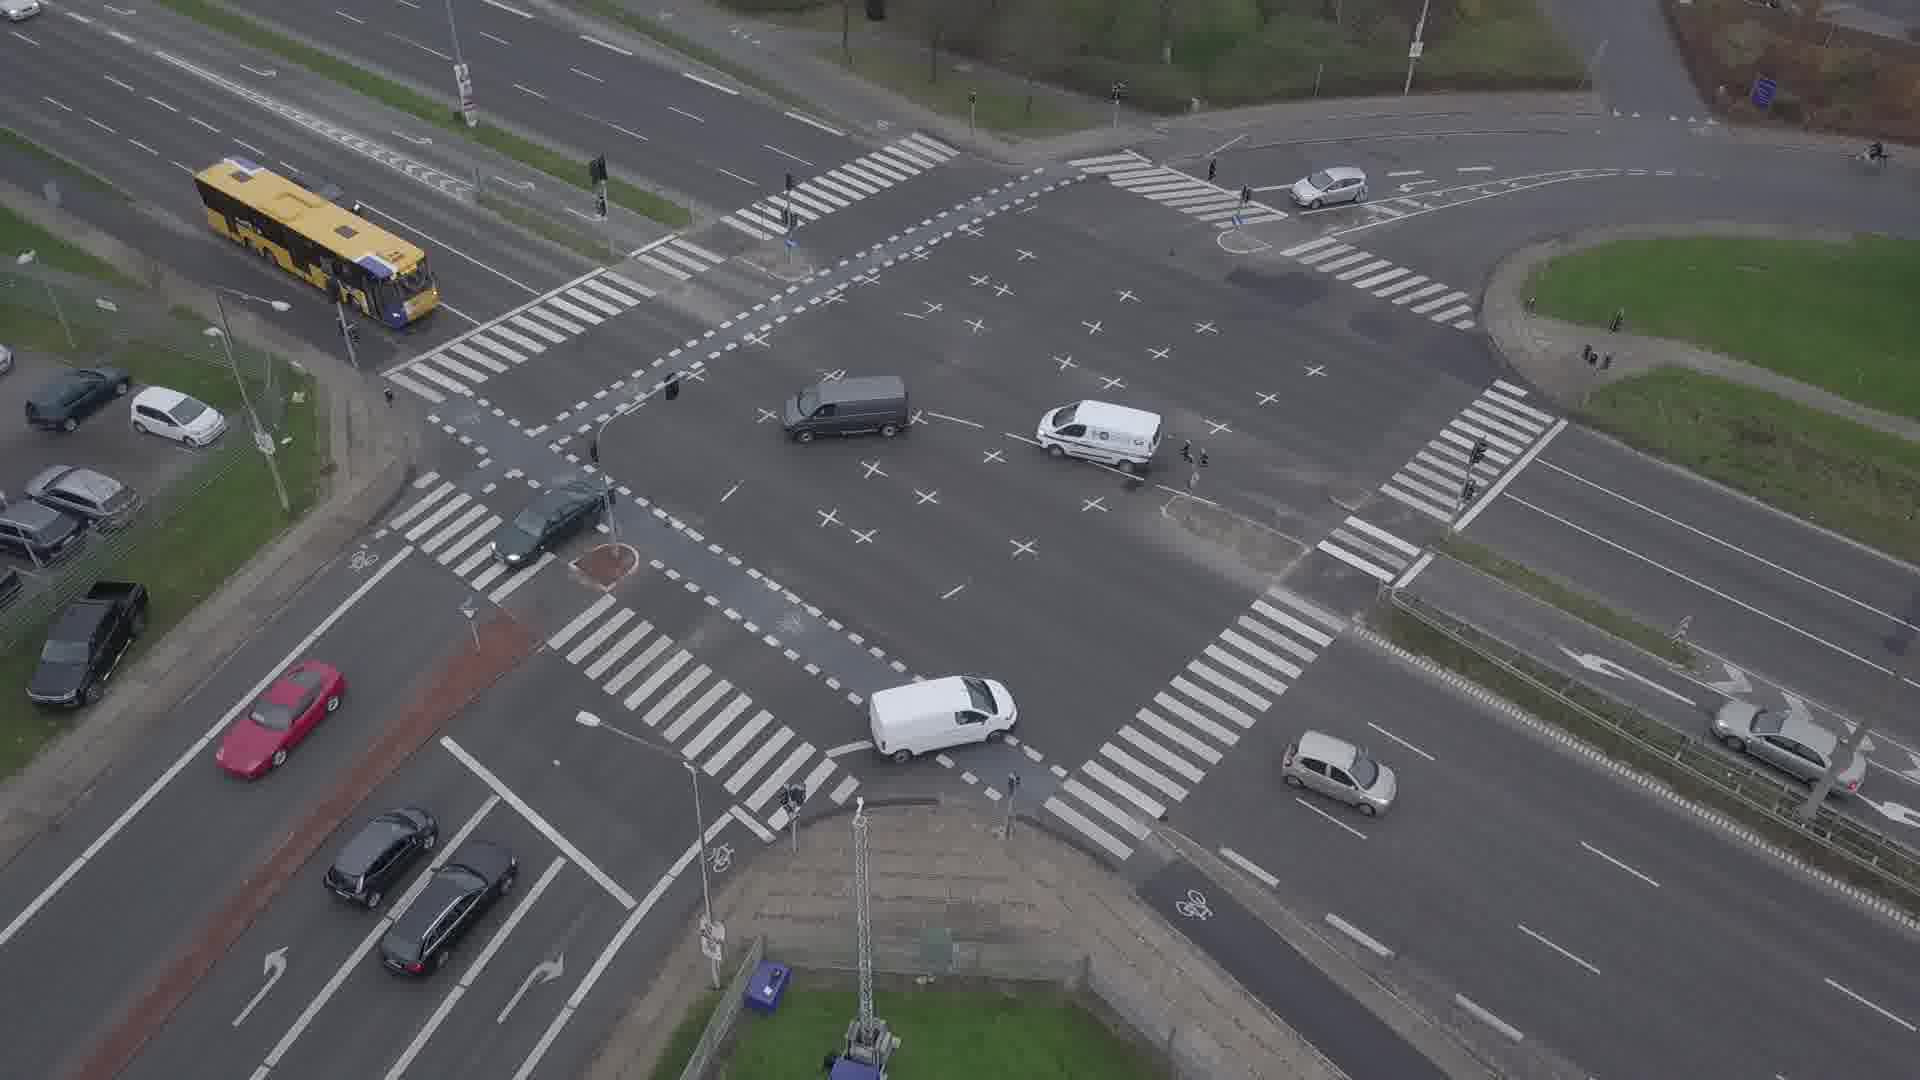bicycle: (1848, 135, 1899, 168)
bus: (195, 155, 440, 326)
car: (381, 839, 520, 977), (1711, 698, 1868, 799), (214, 660, 344, 780), (323, 807, 439, 911), (1281, 730, 1399, 816), (489, 484, 607, 570), (289, 171, 365, 218), (1292, 166, 1368, 209), (0, 0, 42, 23)
lorry: (869, 675, 1019, 765), (1036, 398, 1163, 475), (782, 375, 912, 443)
